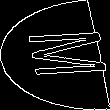M_E: (5, 29, 105, 81)
